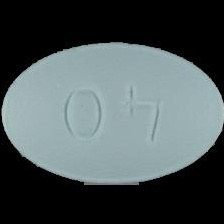55154-4624: (0, 0, 224, 224)
